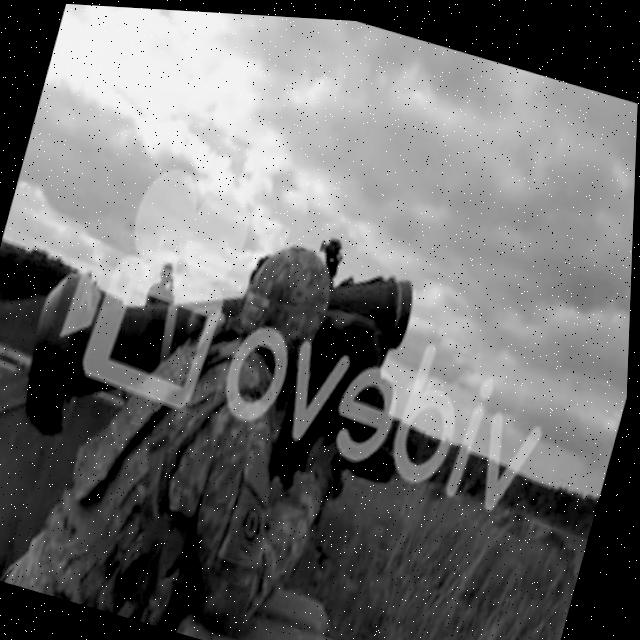rocket: (0, 152, 430, 533)
